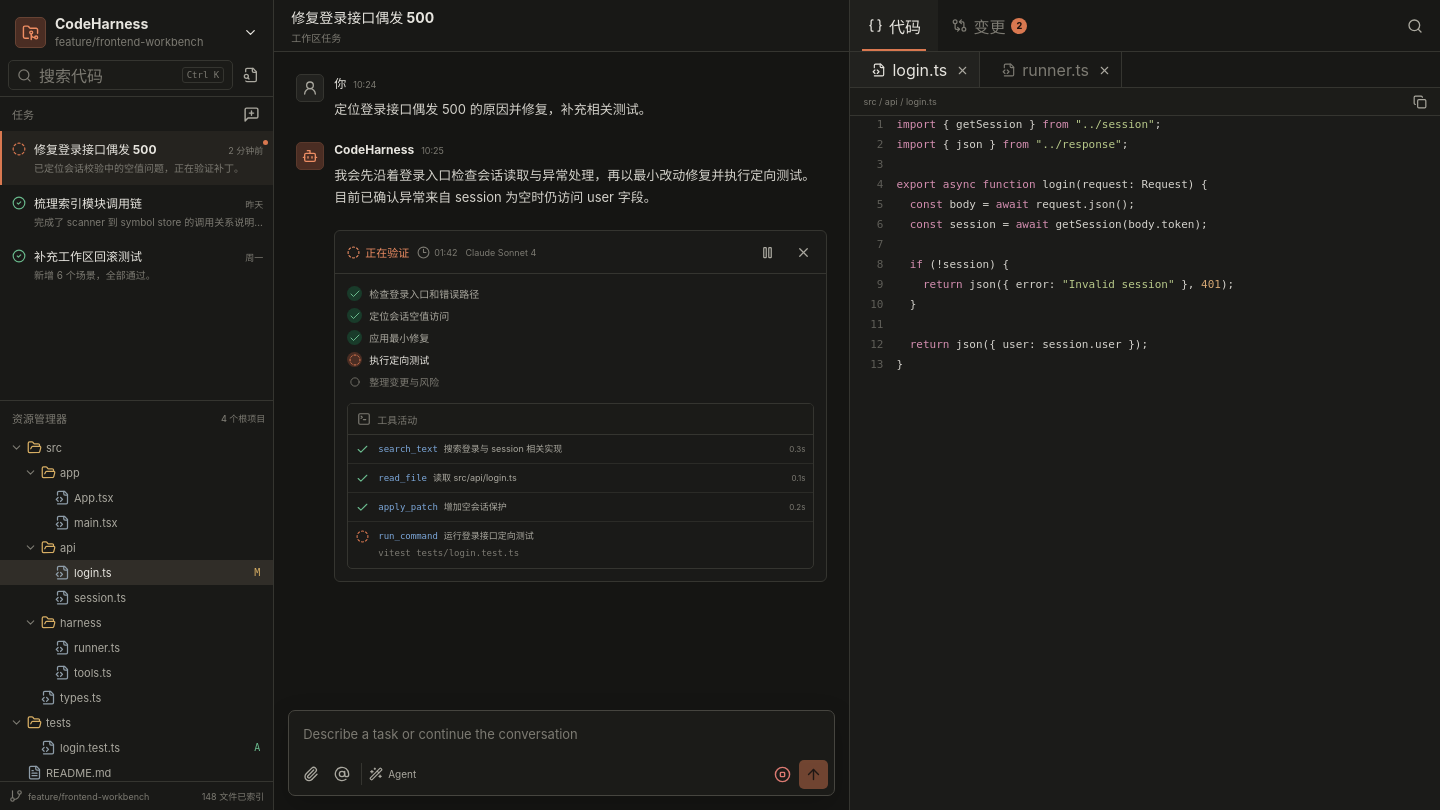
Test case: CodeHarness workbench › switches to changes and accepts a file change
This screenshot has width=1440, height=810.
Check: the heading "修复登录接口偶发 500" is shown, box [291, 6, 434, 26]
Click the tab "变更 2" at (990, 26), box [938, 0, 1041, 51]
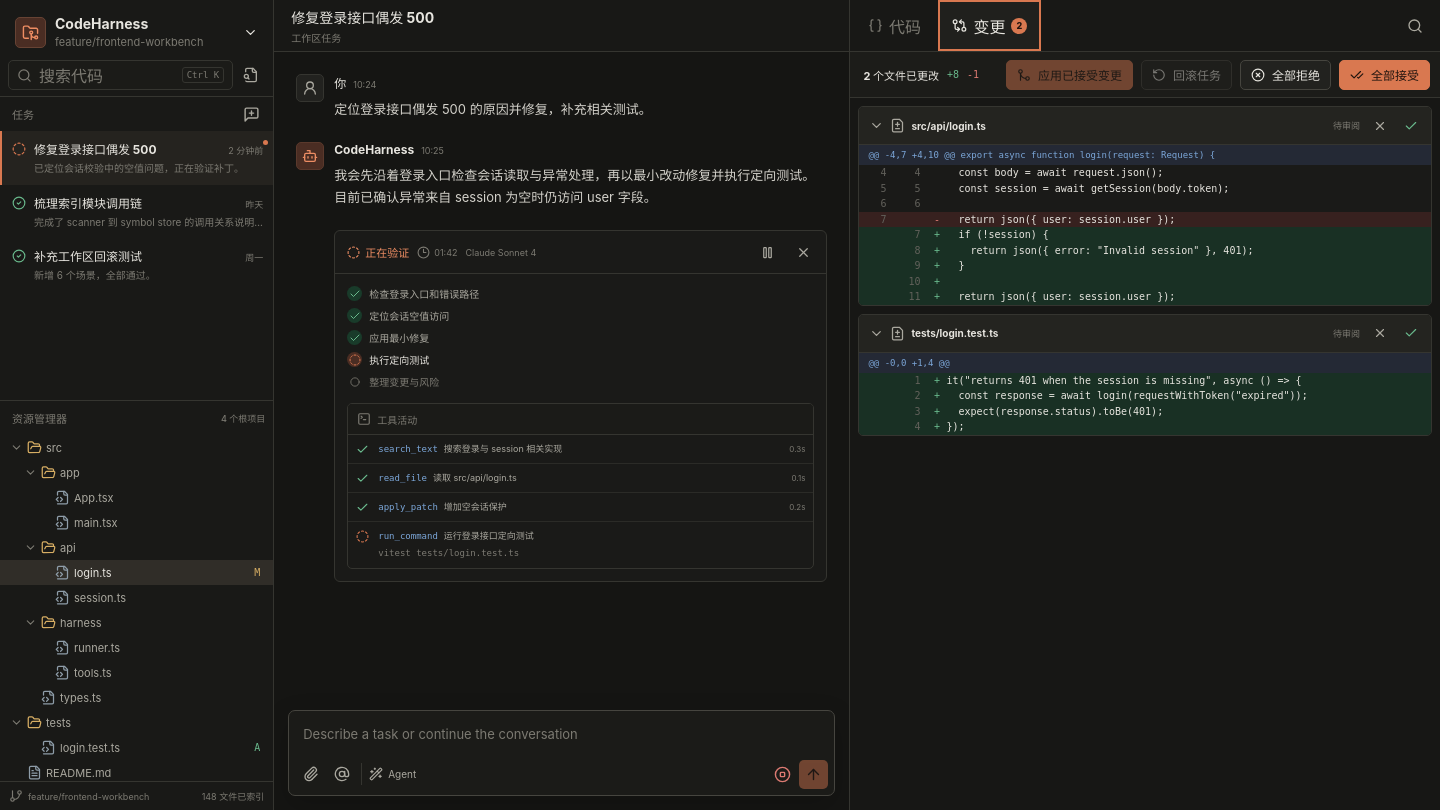
Check: the text "2 个文件已更改" is shown, box [863, 66, 939, 82]
Click the button named "接受 src/api/login.ts" at (1411, 126), box [1397, 112, 1425, 140]
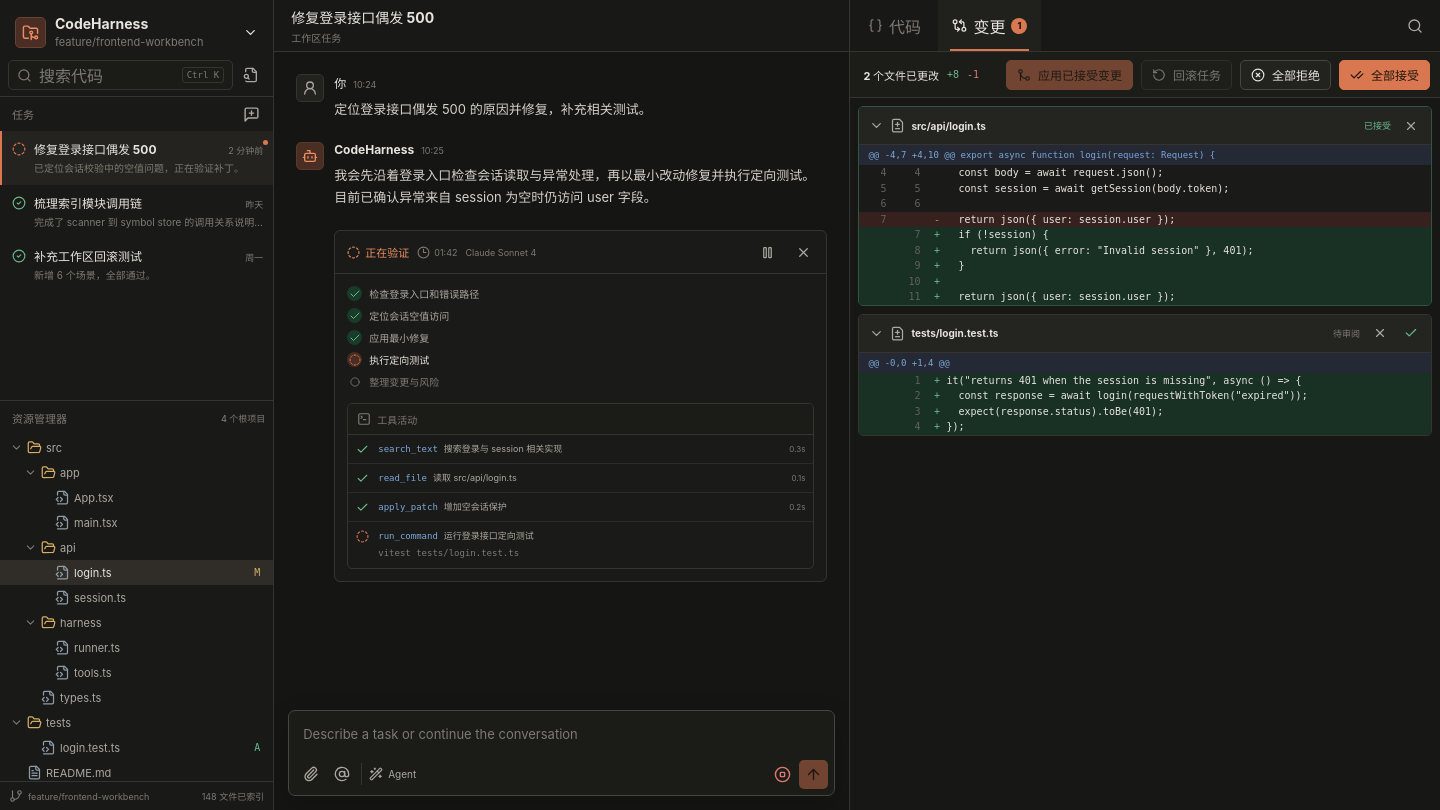
Check: the text "已接受" is shown, box [1364, 119, 1391, 132]
